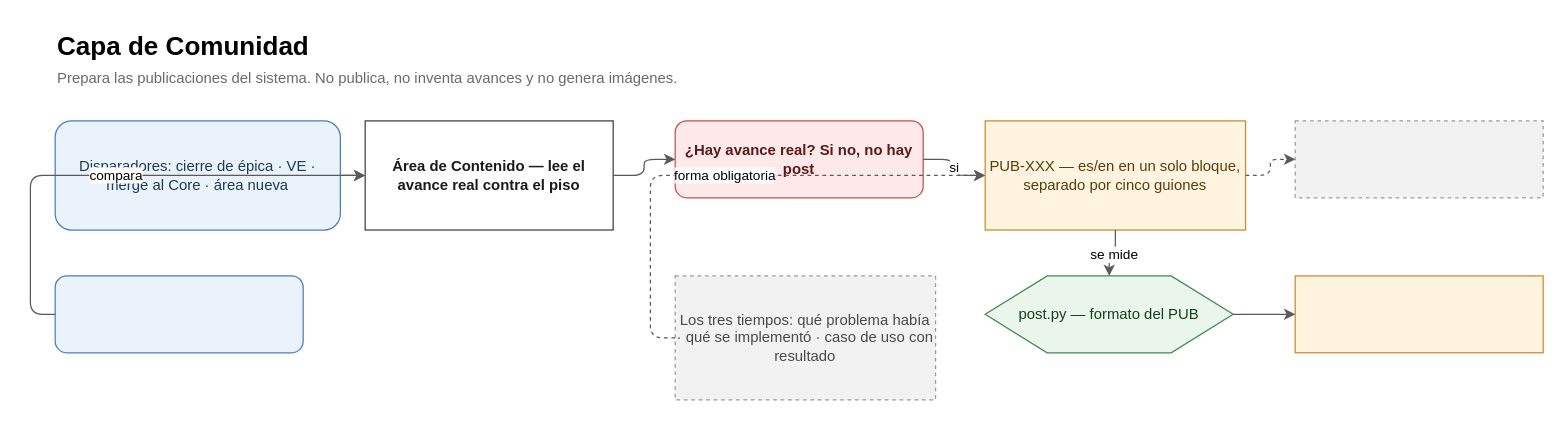
Image size: 1565x422. Some labels were removed from this diagram. Here are the shapes that lost their labels. From the top down, the box of each, then its label:
(1294, 120, 1543, 198): Cada afirmación se verifica contra el archivo que la prueba
(54, 275, 303, 353): Archivo — el piso de lo ya publicado
(1294, 275, 1543, 353): Archivo / Catálogo / Leaderboard
